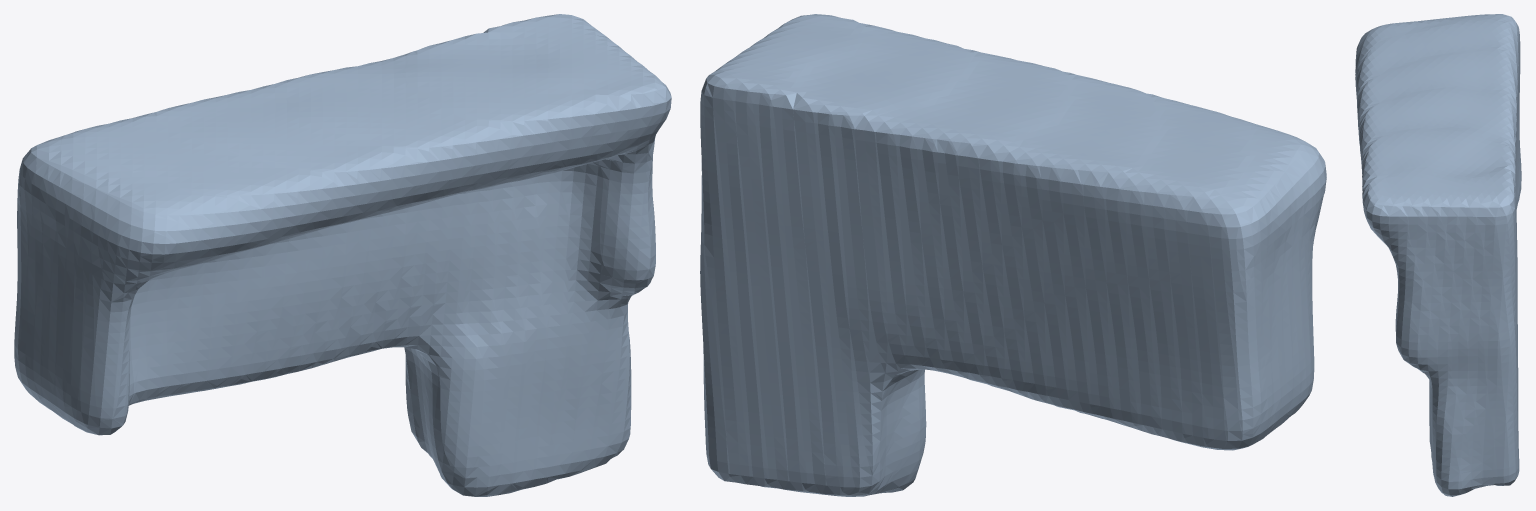
The picture shows the model from 3 angles, left to right: view 1: azimuth 30°, elevation 25°; view 2: azimuth 150°, elevation 25°; view 3: azimuth 270°, elevation 25°; orthographic projection. The views are drawn at different scales.
Parts seen in each view (by area): view 1: ours_mesh; view 2: ours_mesh; view 3: ours_mesh.
Boxes of the visible parts, x1,y1,x2,y2 form: ours_mesh: (14, 14, 671, 496); ours_mesh: (700, 14, 1326, 496); ours_mesh: (1355, 14, 1521, 496).
Bounding box in the file's own units: 0.5687 × 0.4025 × 0.1987.
